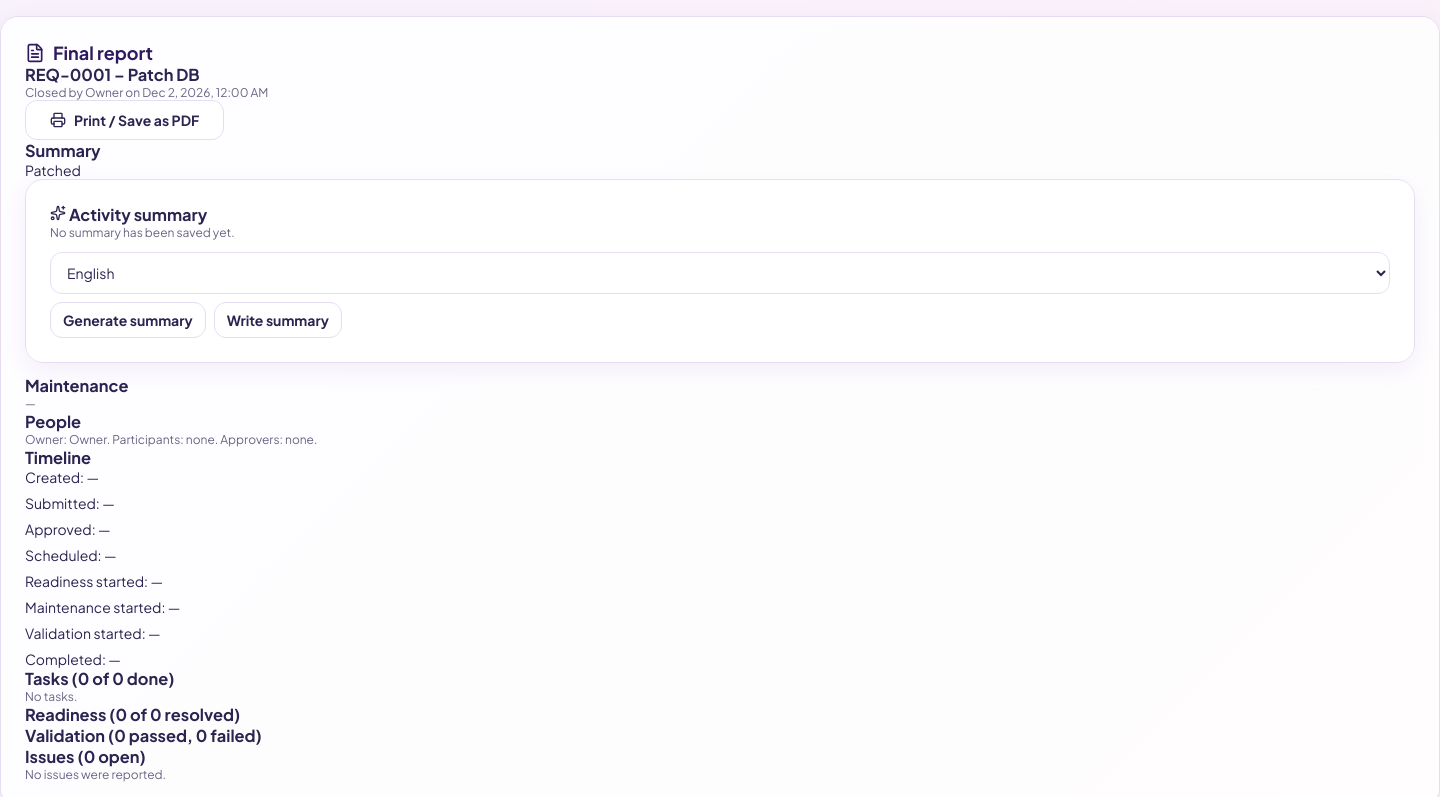
Test: activity summary › an AI draft is shown for review, can be edited, and only then saved with aiAssisted
This screenshot has width=1440, height=797.
Later steps or results of the test are not shown.
Select "العربية" in the dropdown named "Summary language" at (720, 273), box [50, 252, 1390, 294]
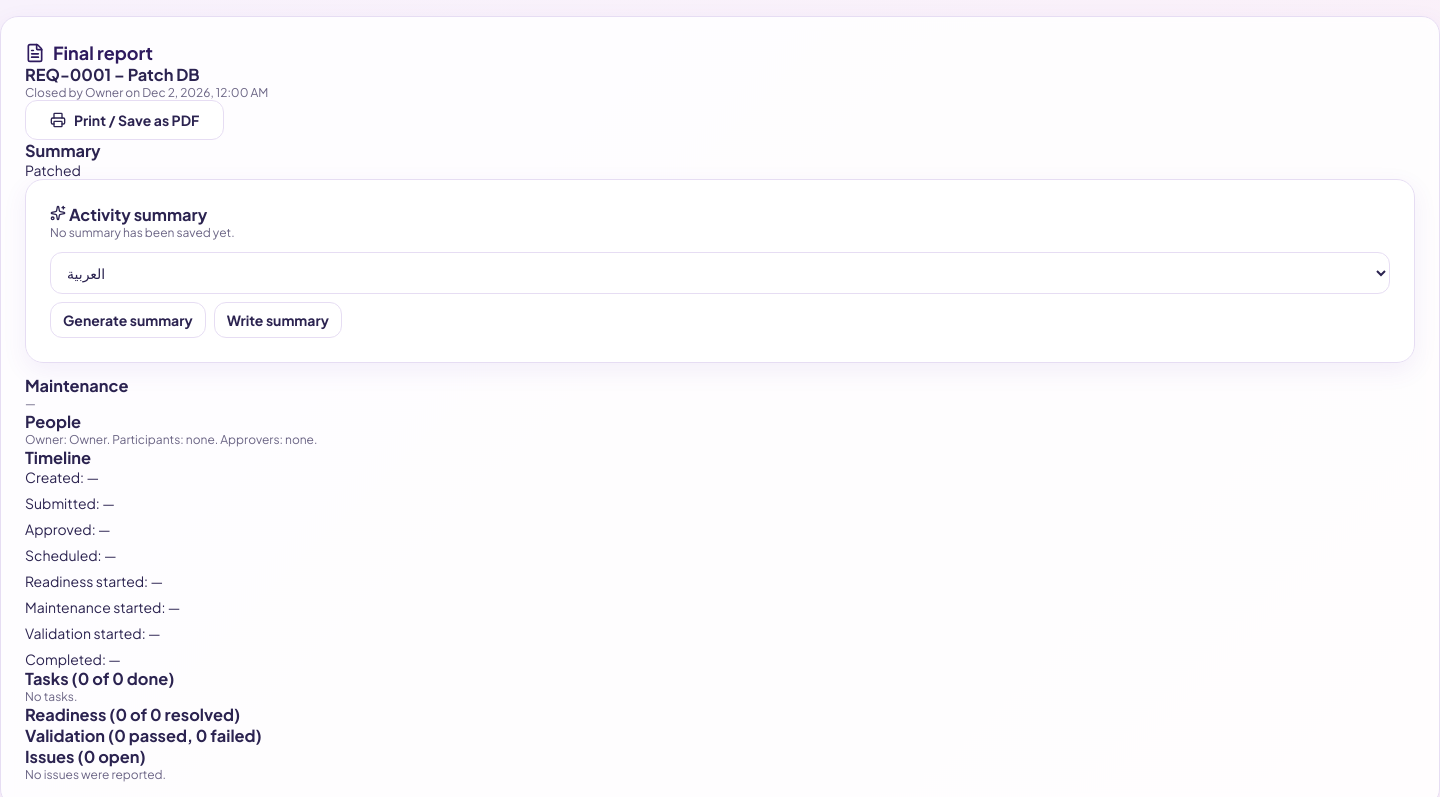
Click the button "Generate summary" at (128, 320), box [50, 302, 206, 338]
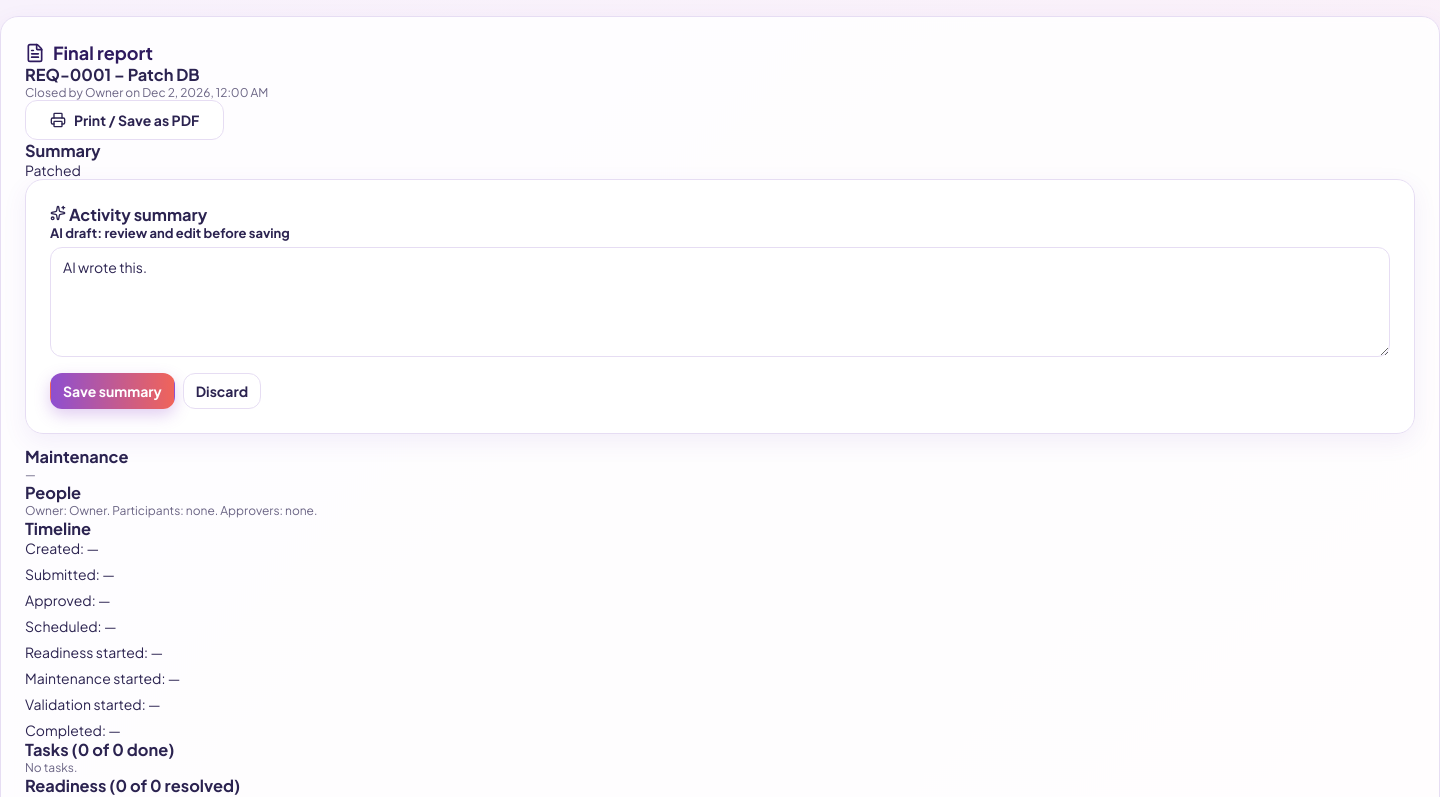
Result: the text box labelled "AI draft: review and edit before saving" holds "AI wrote this." at [50, 247, 1390, 357]
